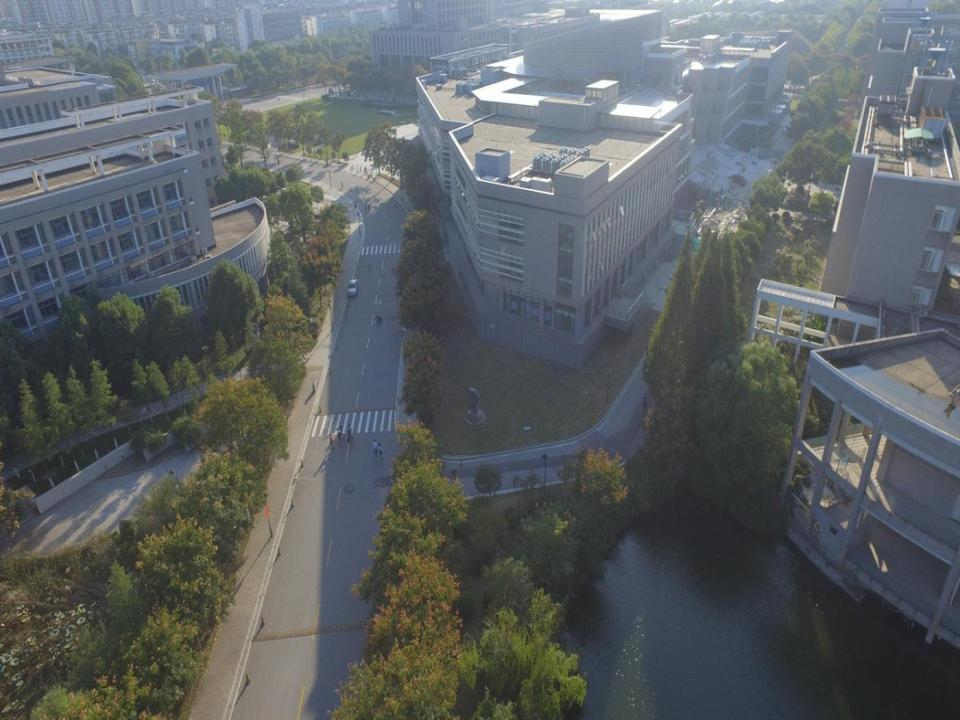car: (347, 278, 358, 297), (286, 139, 300, 149), (766, 168, 772, 176)
van: (770, 158, 776, 163)
